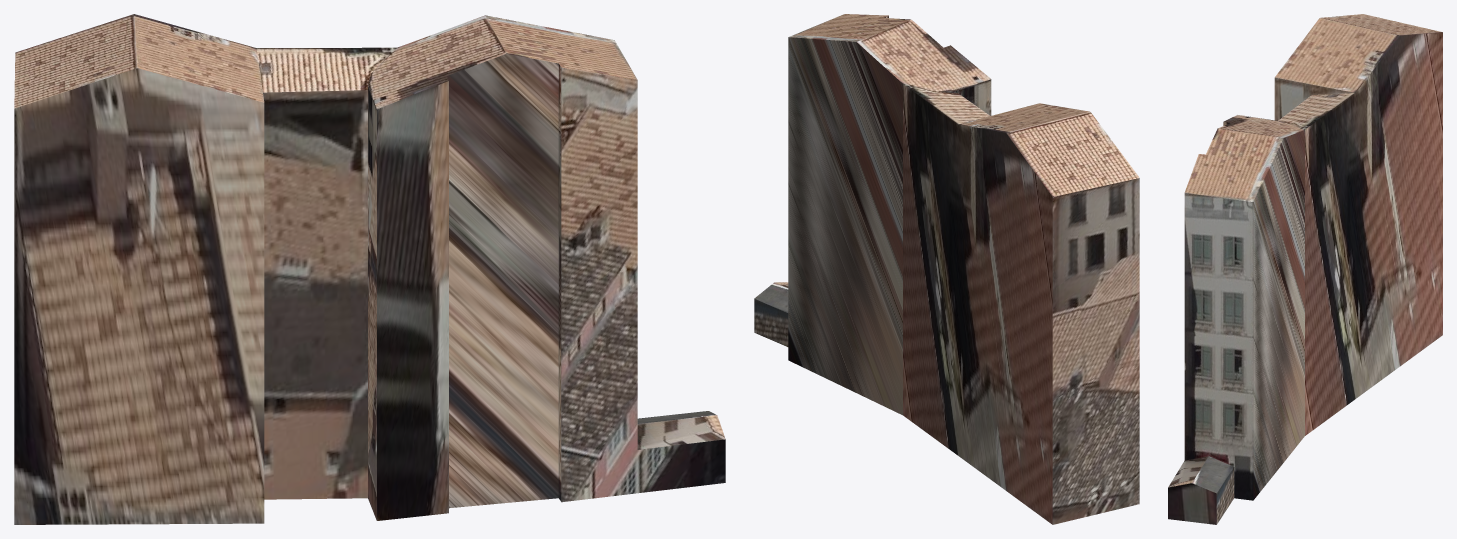
3 views of the same model, side by side, from view 1: azimuth 30°, elevation 25°; view 2: azimuth 150°, elevation 25°; view 3: azimuth 270°, elevation 25° (orthographic). The views are drawn at different scales.
Parts seen in each view (by area): view 1: Z_UP; view 2: Z_UP; view 3: Z_UP.
Part boxes in pixels (box(x1,y1,x2,y2)): Z_UP: box(14, 14, 725, 524); Z_UP: box(754, 14, 1139, 524); Z_UP: box(1168, 14, 1442, 524).
Bounding box in the file's own units: 30.23 × 22.26 × 16.75.
2 materials, 1 textured.
